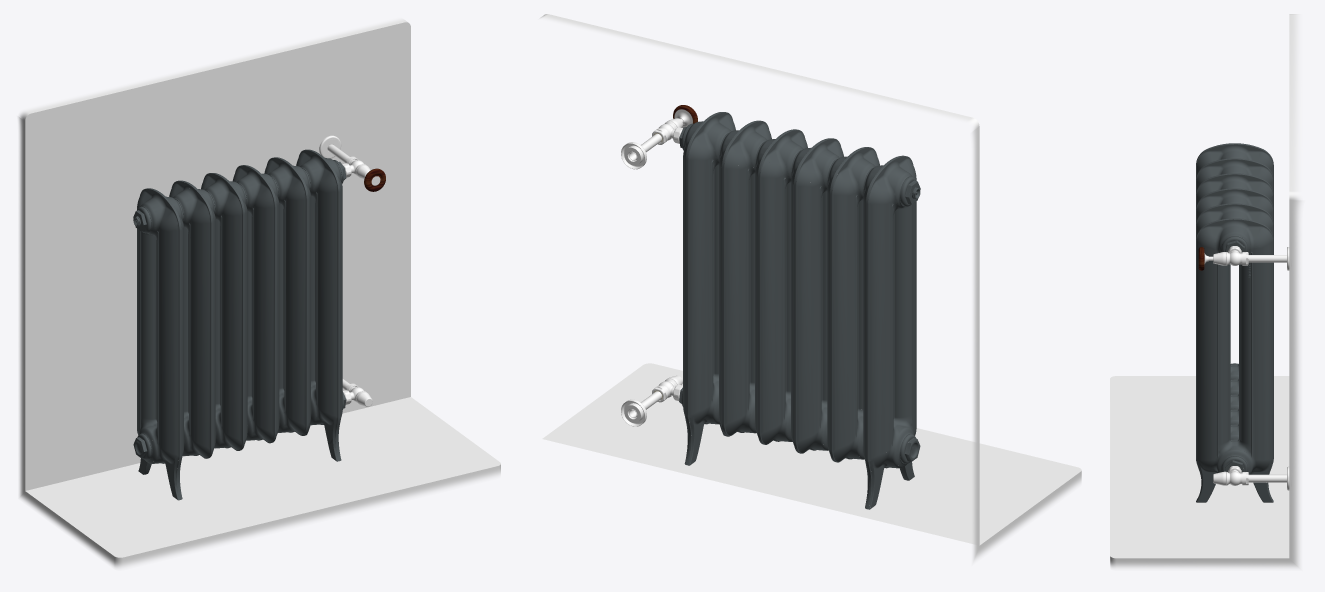
File: obj_plain_cast_iron_radiator_c79797.glb
3 views of the same model, side by side, from view 1: azimuth 30°, elevation 25°; view 2: azimuth 150°, elevation 25°; view 3: azimuth 270°, elevation 25° (orthographic). The views are drawn at different scales.
Parts seen in each view (by area): view 1: obj_plain_cast_iron_radiator_c79797; view 2: obj_plain_cast_iron_radiator_c79797; view 3: obj_plain_cast_iron_radiator_c79797.
Boxes of the visible parts, x1,y1,x2,y2 form: obj_plain_cast_iron_radiator_c79797: (18,18,500,568); obj_plain_cast_iron_radiator_c79797: (540,14,1081,561); obj_plain_cast_iron_radiator_c79797: (1110,14,1301,568).
Size of the model in its own units: 0.8 by 0.7854 by 0.3727.
8 materials, 8 textured.
